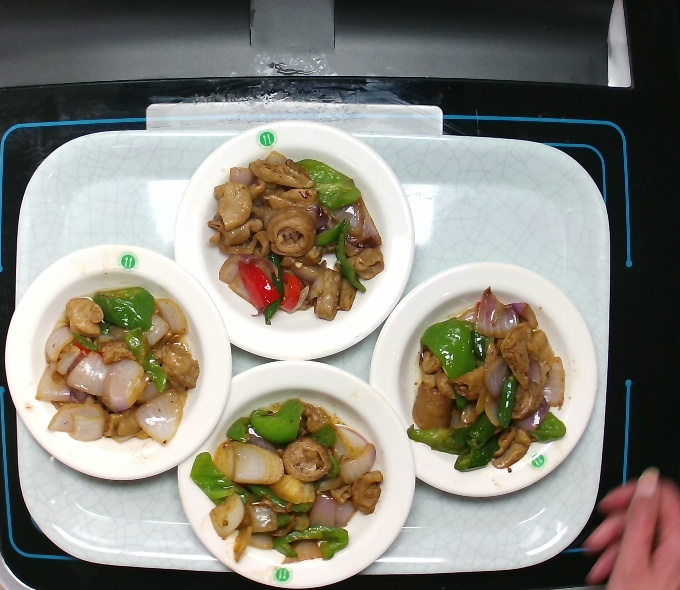wcq-QingJiaoChaoDaChang: (187, 394, 388, 566), (199, 147, 389, 328), (401, 285, 573, 476), (31, 282, 204, 449)
